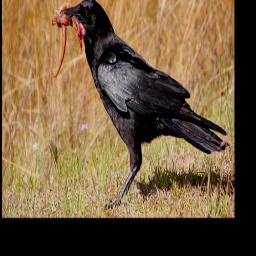Crow: (43, 0, 229, 208)
